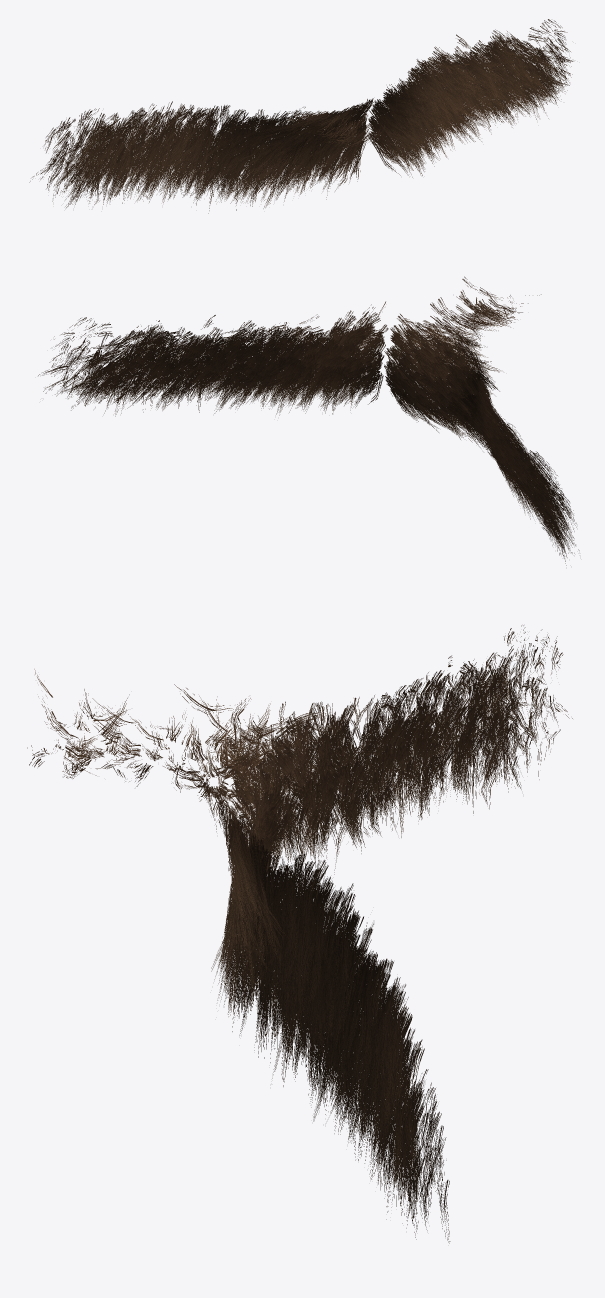
File: moustache.glb
3 views of the same model, one above another, from view 1: azimuth 30°, elevation 25°; view 2: azimuth 150°, elevation 25°; view 3: azimuth 270°, elevation 25° (orthographic). The views are drawn at different scales.
Visible parts, largest first — view 1: moustache; view 2: moustache; view 3: moustache.
Part boxes in pixels (x1,y1,x2,y2): moustache: (29,19,573,213); moustache: (38,276,579,565); moustache: (27,625,572,1243).
Bounding box in the file's own units: 0.4189 × 0.111 × 0.1847.
1 material, 1 textured.
